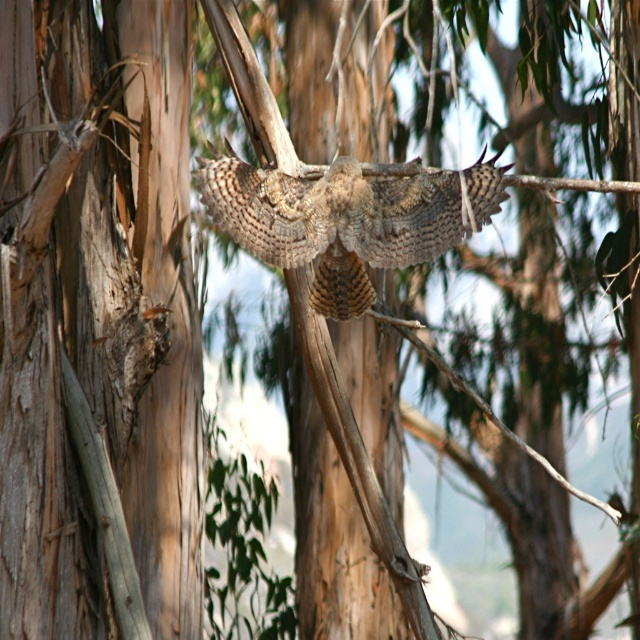Owl: (186, 136, 518, 329)
